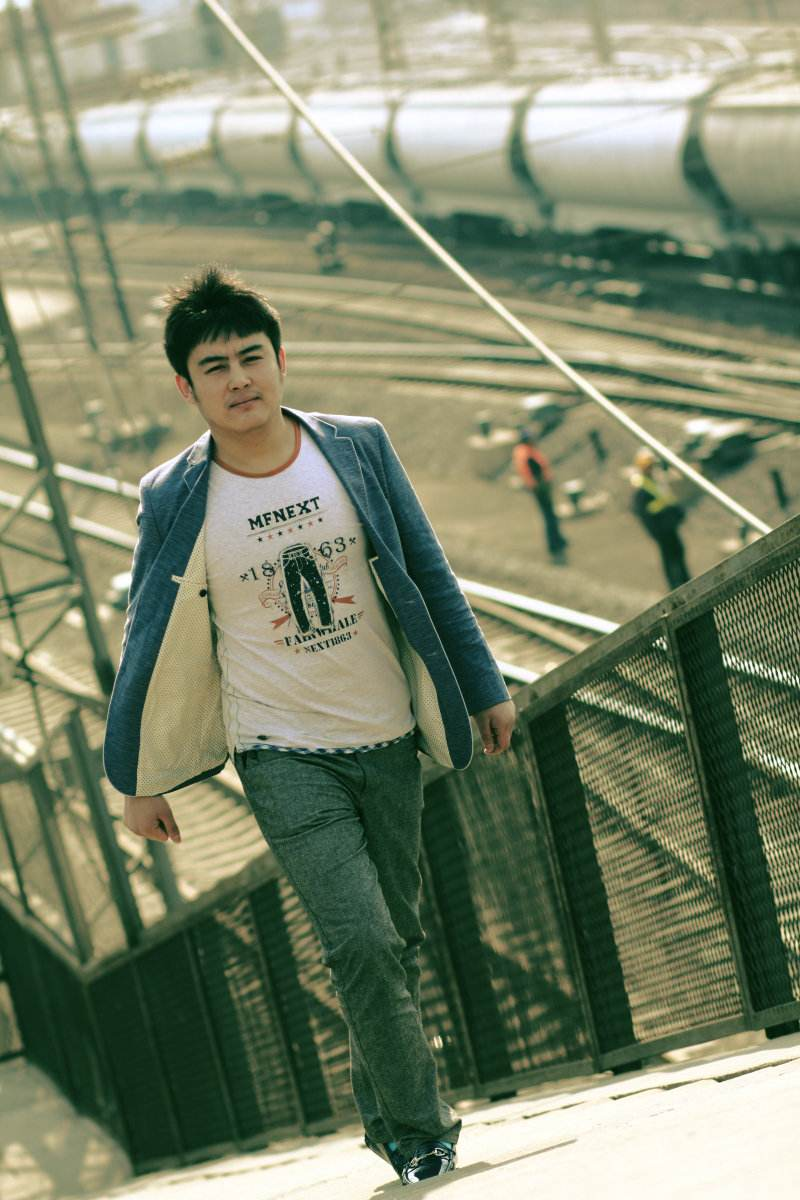person: (104, 282, 592, 1085)
